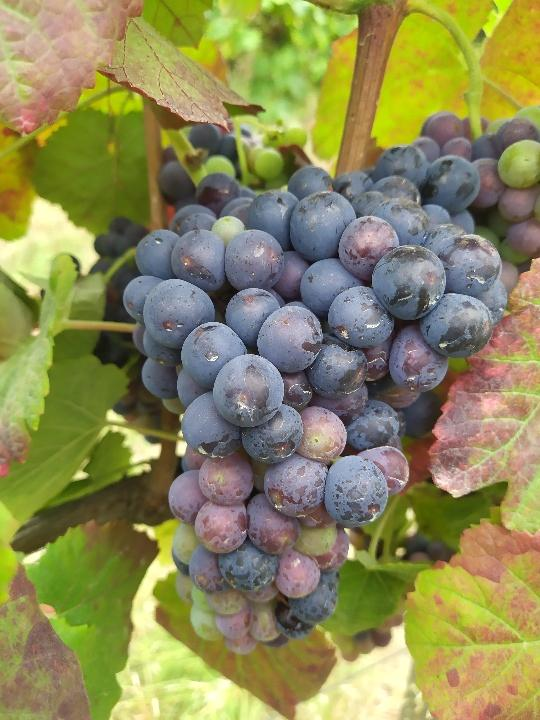grape: (121, 168, 511, 656)
